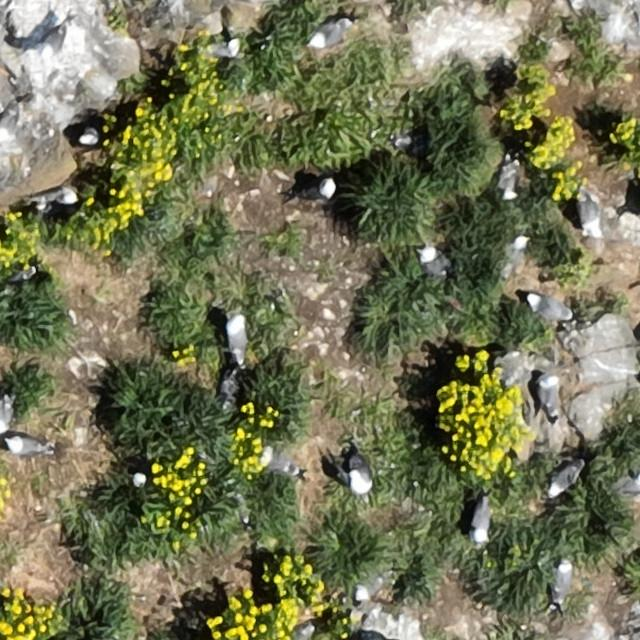umineko: (571, 188, 609, 242), (354, 569, 395, 600), (498, 234, 532, 271), (312, 20, 350, 45), (530, 297, 570, 320), (227, 316, 247, 356), (549, 465, 575, 495), (7, 436, 45, 456), (40, 28, 66, 57), (420, 249, 446, 277), (347, 461, 369, 494), (541, 377, 559, 417), (299, 181, 334, 201), (500, 162, 519, 198), (553, 562, 571, 599), (38, 189, 73, 208), (472, 505, 488, 542), (212, 40, 241, 58), (292, 622, 315, 639), (80, 129, 100, 146), (0, 399, 10, 432)
